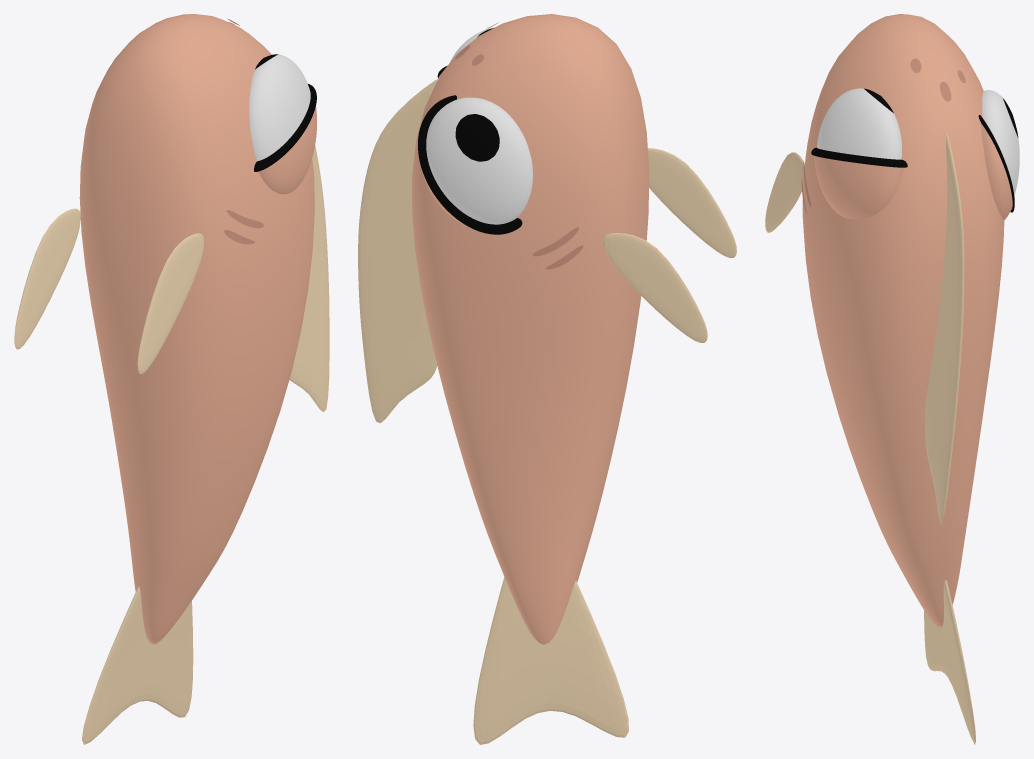
Rendered from boid-fish-lucky-source.glb.
3 views of the same model, side by side, from view 1: azimuth 30°, elevation 25°; view 2: azimuth 150°, elevation 25°; view 3: azimuth 270°, elevation 25° (orthographic). The views are drawn at different scales.
Visible parts, largest first — view 1: FishProxy_0.001; view 2: FishProxy_0.001; view 3: FishProxy_0.001.
Part boxes in pixels (x1,y1,x2,y2): FishProxy_0.001: [14, 14, 329, 744]; FishProxy_0.001: [358, 14, 736, 744]; FishProxy_0.001: [765, 14, 1019, 744].
Bounding box in the file's own units: 1.83 × 3.8 × 1.24.
